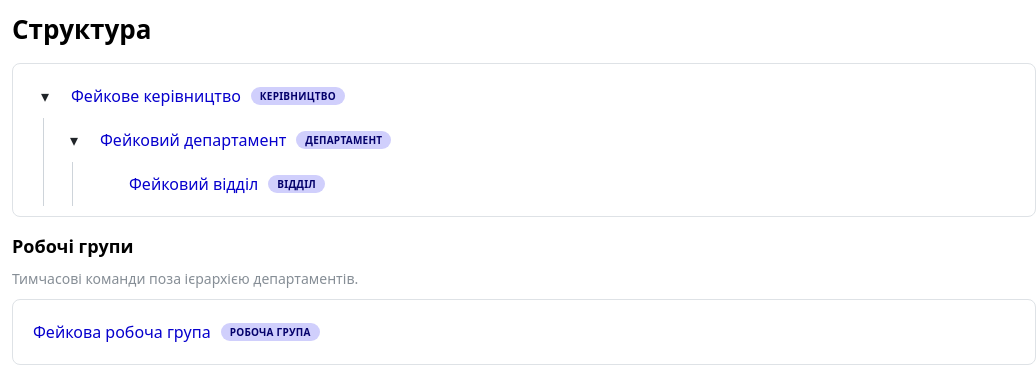
Test case: OrgPage › collapses a branch with the chevron
Expected: the link "Фейковий відділ" is shown, [129,172,258,196]
Click the button "▾" next to "Фейковий департамент": (74, 140) [52,118,96,162]
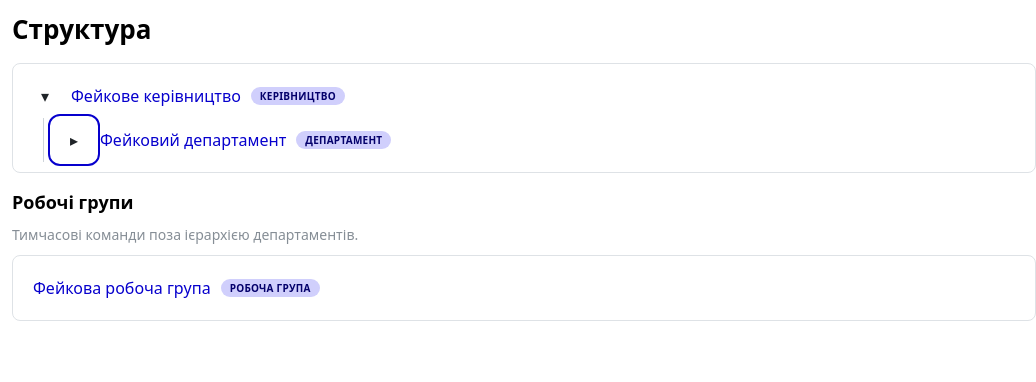
Expected: the link "Фейковий відділ" is gone
